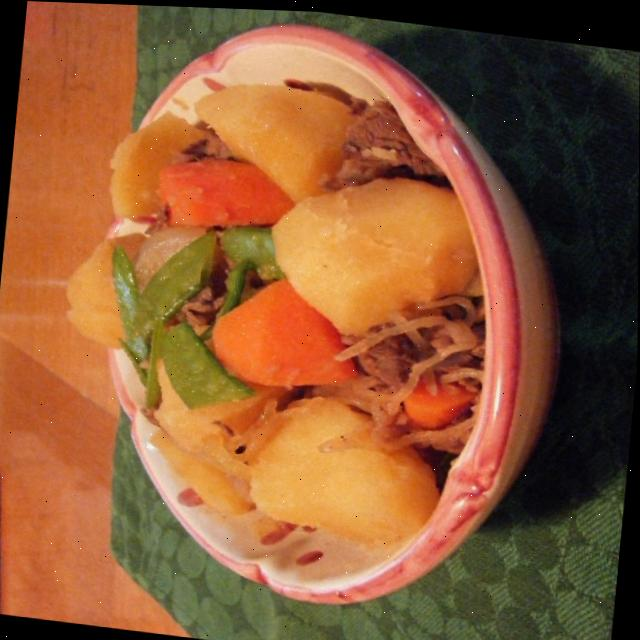牛肉菜式: (30, 1, 590, 624)
